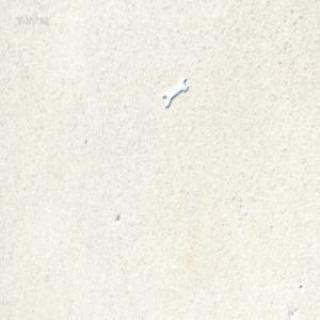Wrenchtrack_idkeyframe: (162, 75, 187, 106)
